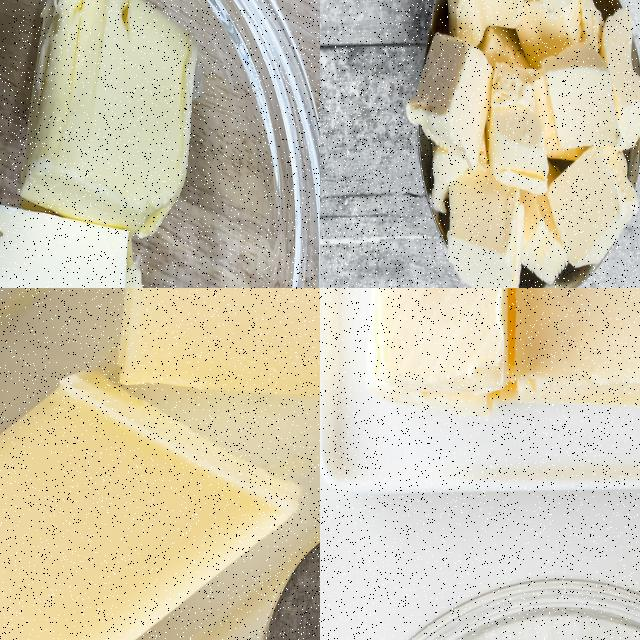butter: (0, 331, 302, 639), (403, 0, 639, 287), (0, 0, 198, 287), (367, 288, 639, 412), (117, 288, 319, 408)
